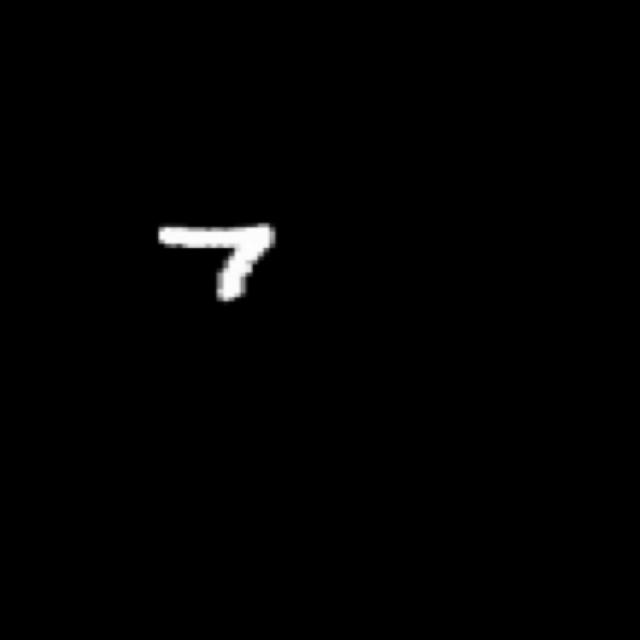seven -7-: (146, 218, 283, 312)
